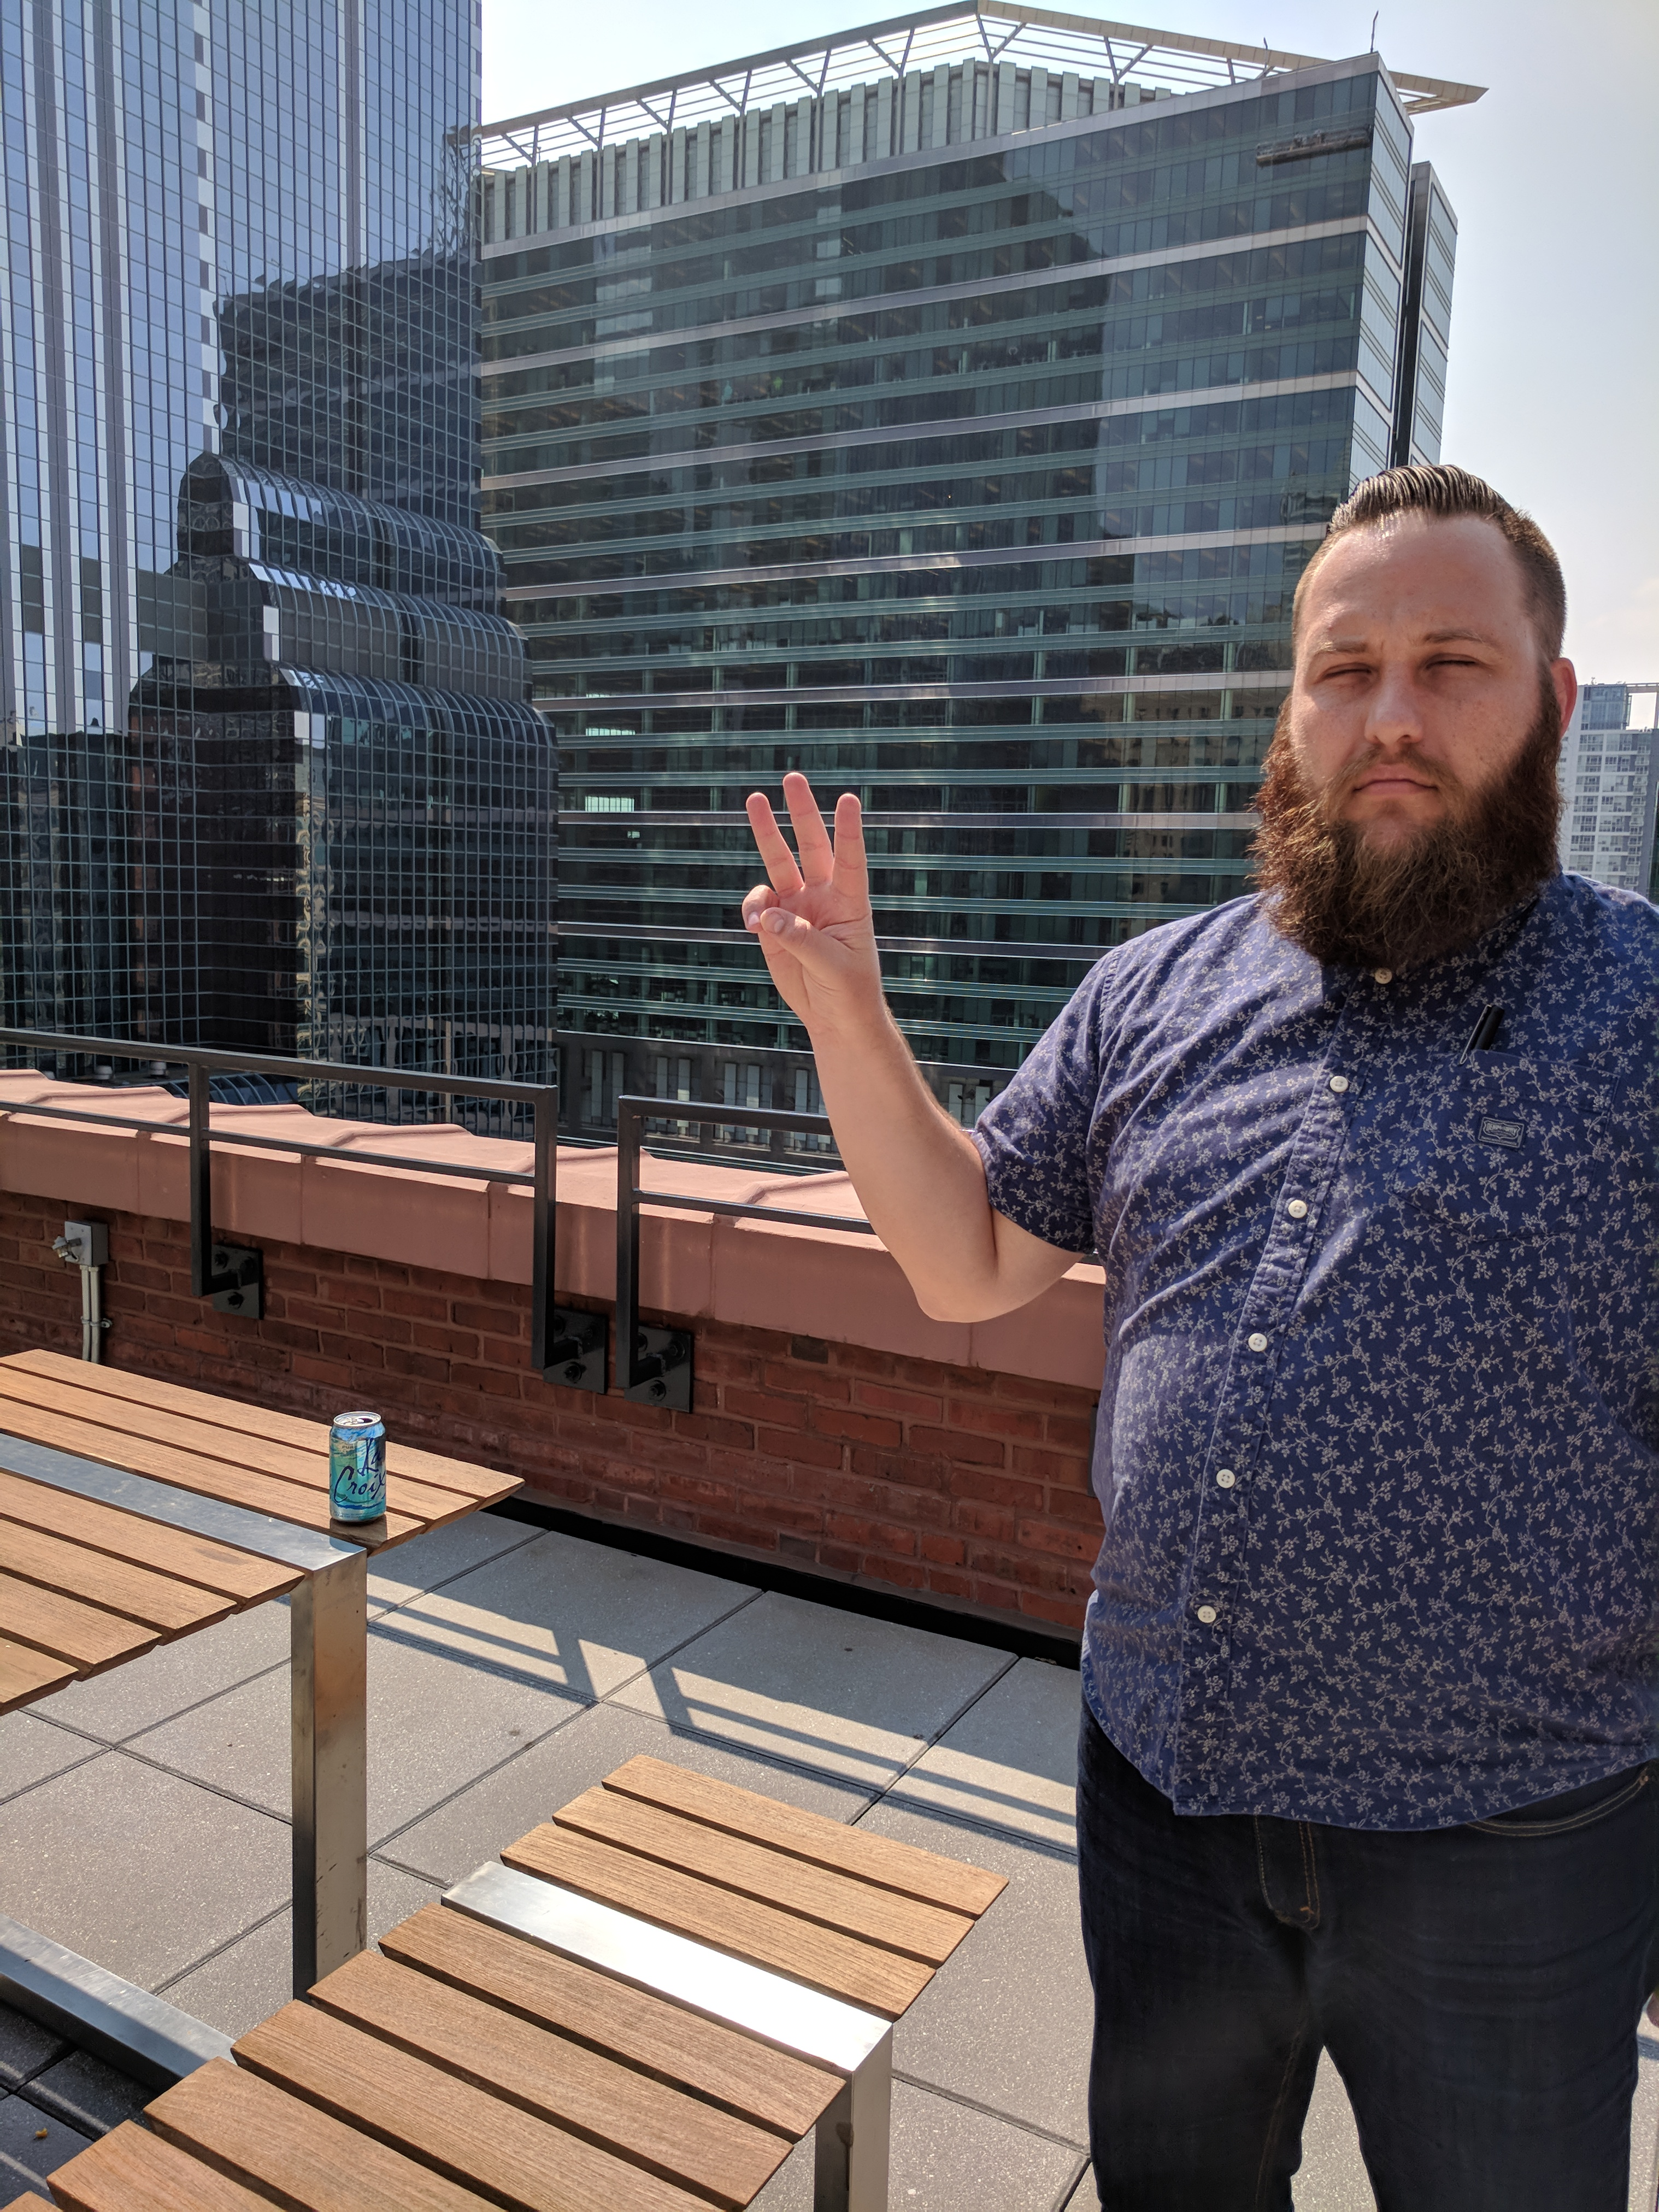w: (728, 770, 892, 1012)
